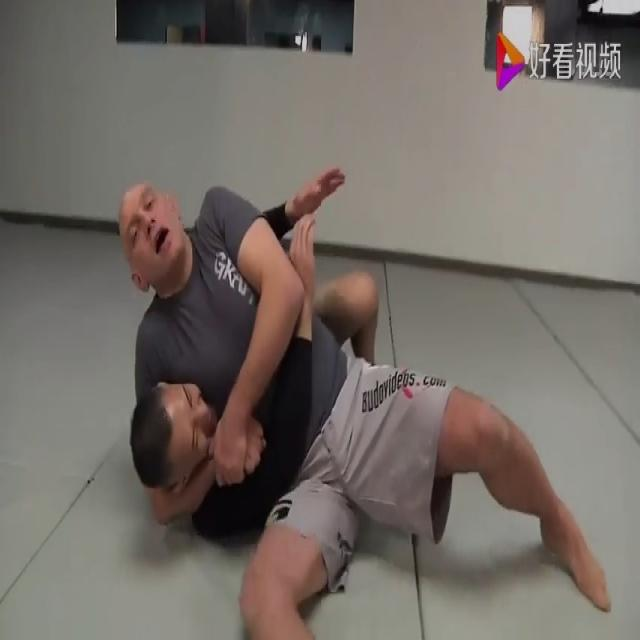fight: (102, 153, 619, 639)
